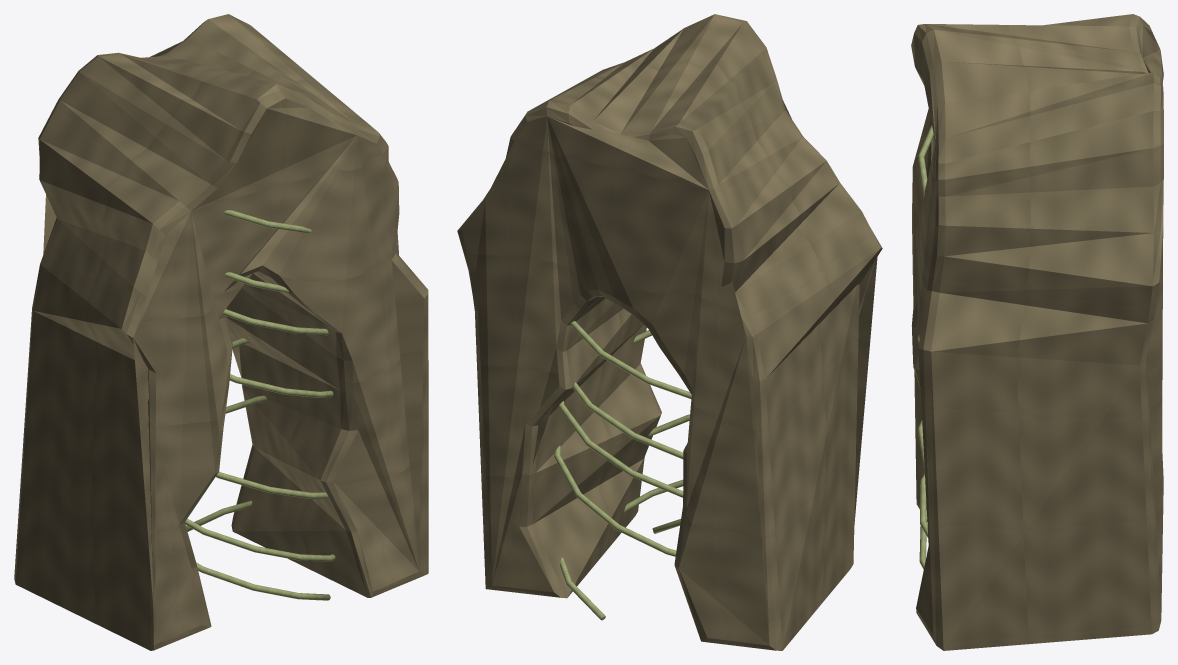
Rendered from ancient_trunk_with_hollow_doorway_swamp_and_mangrove_22661.glb.
The picture shows the model from 3 angles, left to right: view 1: azimuth 30°, elevation 25°; view 2: azimuth 150°, elevation 25°; view 3: azimuth 270°, elevation 25°; orthographic projection. The views are drawn at different scales.
Parts seen in each view (by area): view 1: ancient-doorway-trunk; view 2: ancient-doorway-trunk; view 3: ancient-doorway-trunk.
Part boxes in pixels (x1=…): ancient-doorway-trunk: x1=14, y1=14, x2=428, y2=650; ancient-doorway-trunk: x1=457, y1=14, x2=882, y2=650; ancient-doorway-trunk: x1=911, y1=14, x2=1163, y2=650.
Bounding box in the file's own units: 3.08 × 4.88 × 2.05.
Materials: 2 (2 with a texture image).
